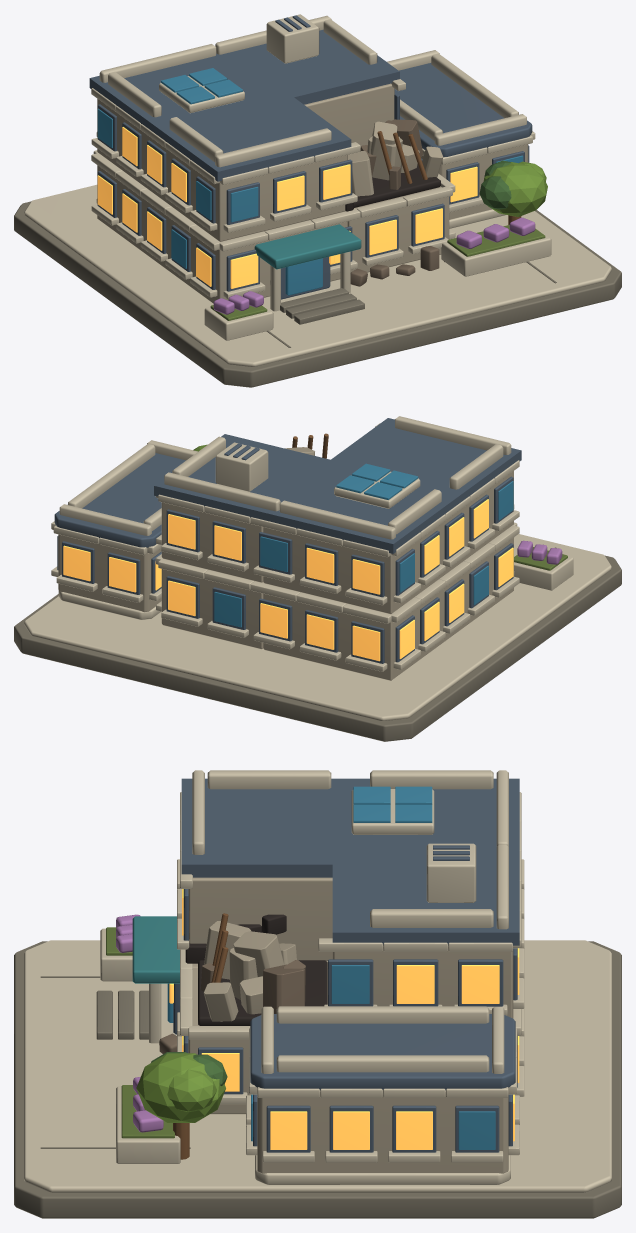
Rendered from civilian-house-damaged.glb.
3 renders of one model, top to bottom at view 1: azimuth 30°, elevation 25°; view 2: azimuth 150°, elevation 25°; view 3: azimuth 270°, elevation 25°, orthographic. The views are drawn at different scales.
Parts seen in each view (by area): view 1: CivilianShell; view 2: CivilianShell; view 3: CivilianShell.
Boxes of the visible parts, x1,y1,x2,y2 form: CivilianShell: (14,14,621,387); CivilianShell: (14,416,621,741); CivilianShell: (14,770,621,1218).
Bounding box in the file's own units: 2.97 × 1.38 × 2.97.
